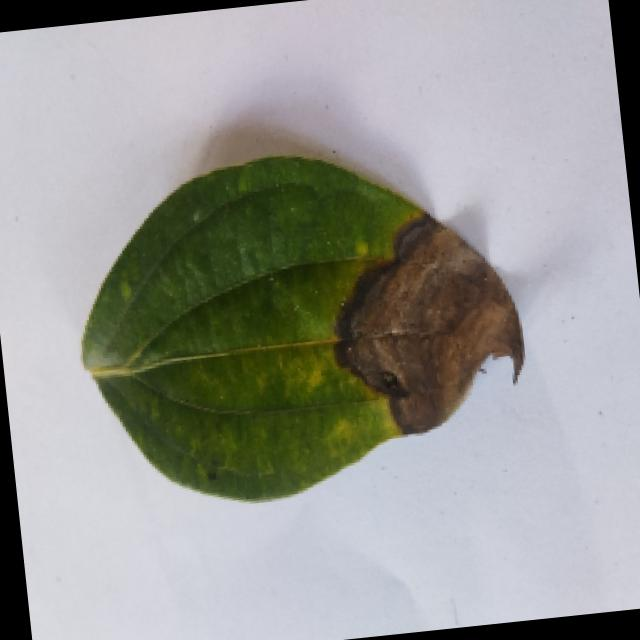footrot: (57, 136, 530, 525)
